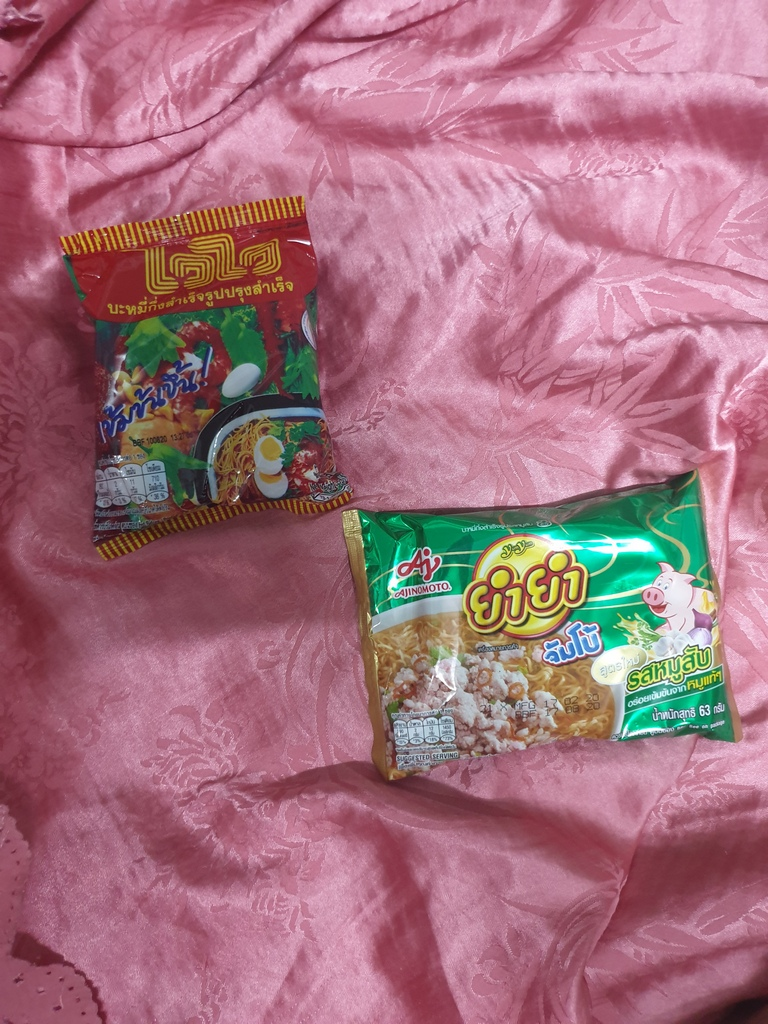waiwai: (58, 219, 363, 513)
yumyum: (345, 512, 748, 753)
